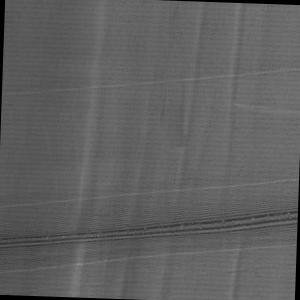Wrinkle: (116, 1, 212, 300), (59, 1, 118, 300), (212, 4, 254, 211), (227, 233, 252, 300)
